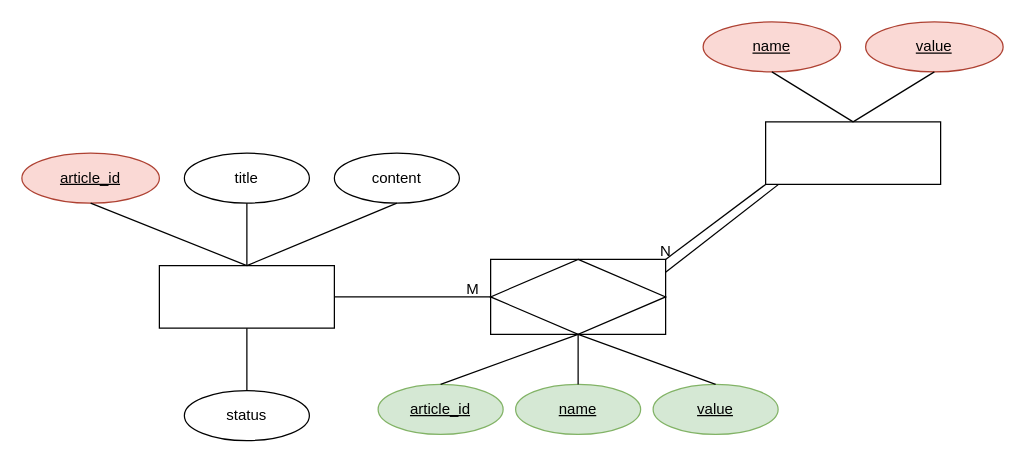
This 1025x463 diagram has some shape labels left out. The shapes that lost their labels are listed below. From the top down, each one's centre as x and y in pixels, then its label:
At point (852, 152): "Tag".
At point (246, 296): "Article".
At point (577, 296): "Keyword".
